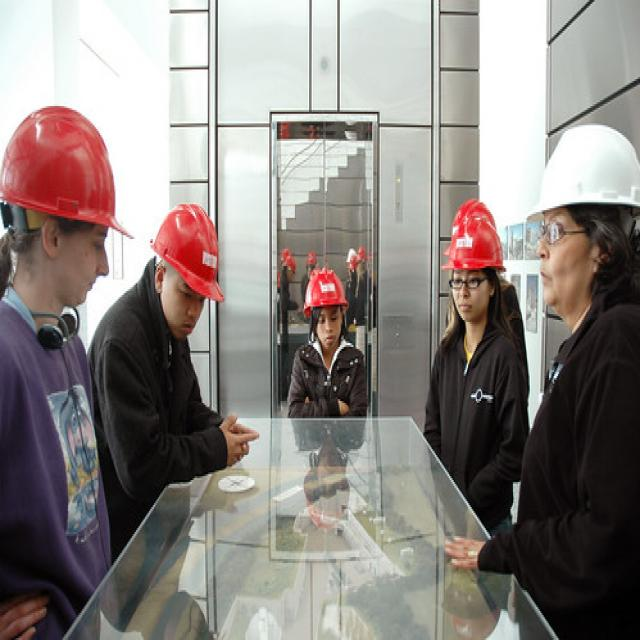Safety-Helmet: (1, 100, 130, 245), (524, 114, 638, 233), (148, 196, 228, 304), (440, 194, 509, 280), (304, 270, 349, 310)
